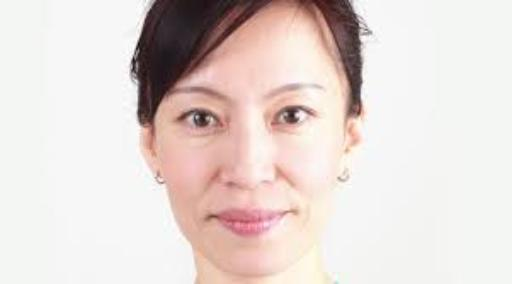left_eye: (270, 108, 320, 127)
left_lip_corner: (278, 205, 297, 219)
right_eye: (175, 110, 226, 130)
right_lip_corner: (204, 210, 228, 226)
